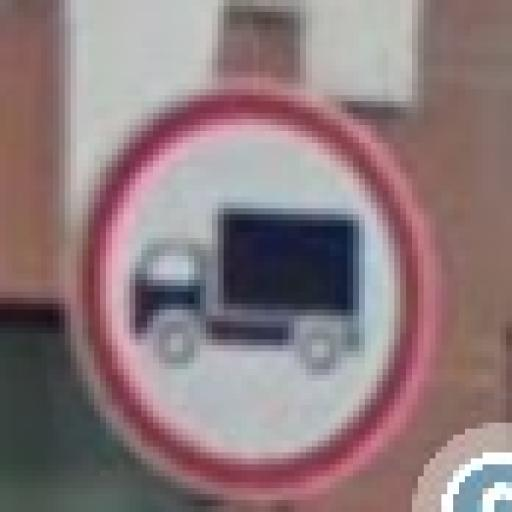traffic_sign: (66, 78, 442, 507)
